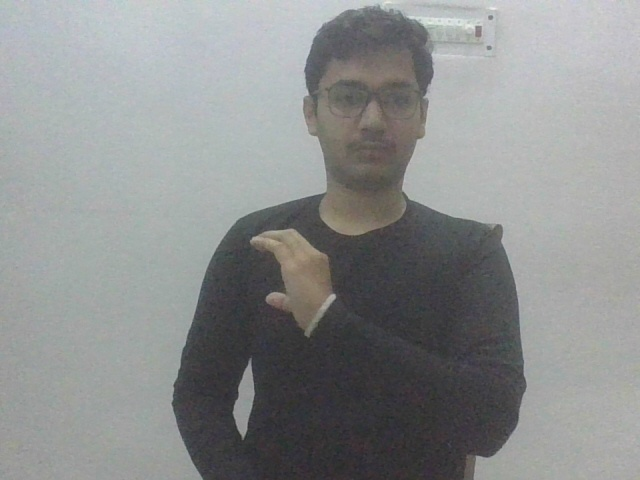C: (246, 225, 336, 337)
